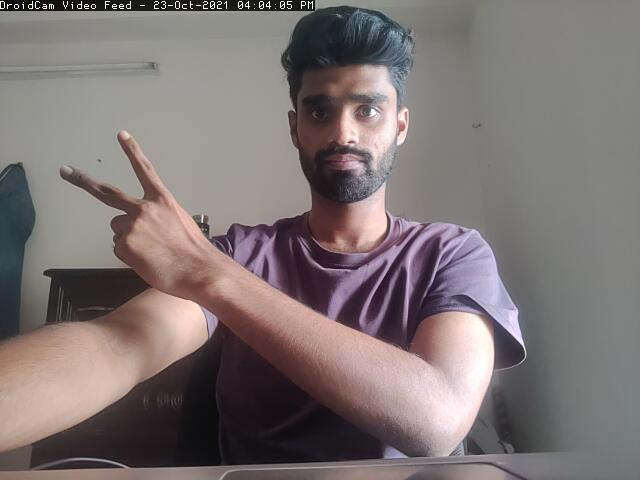Victory: (55, 126, 223, 295)
